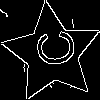C: (27, 28, 76, 70)
